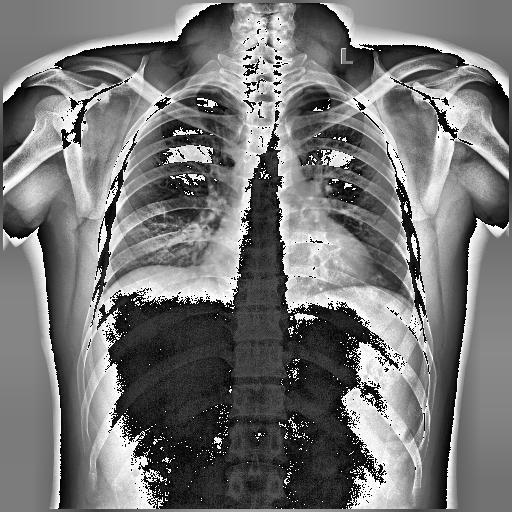11- Pleural thickening: (174, 81, 224, 95), (306, 84, 342, 94)
3- Cardiomegaly: (195, 236, 378, 290), (200, 239, 374, 291), (197, 242, 377, 288)
